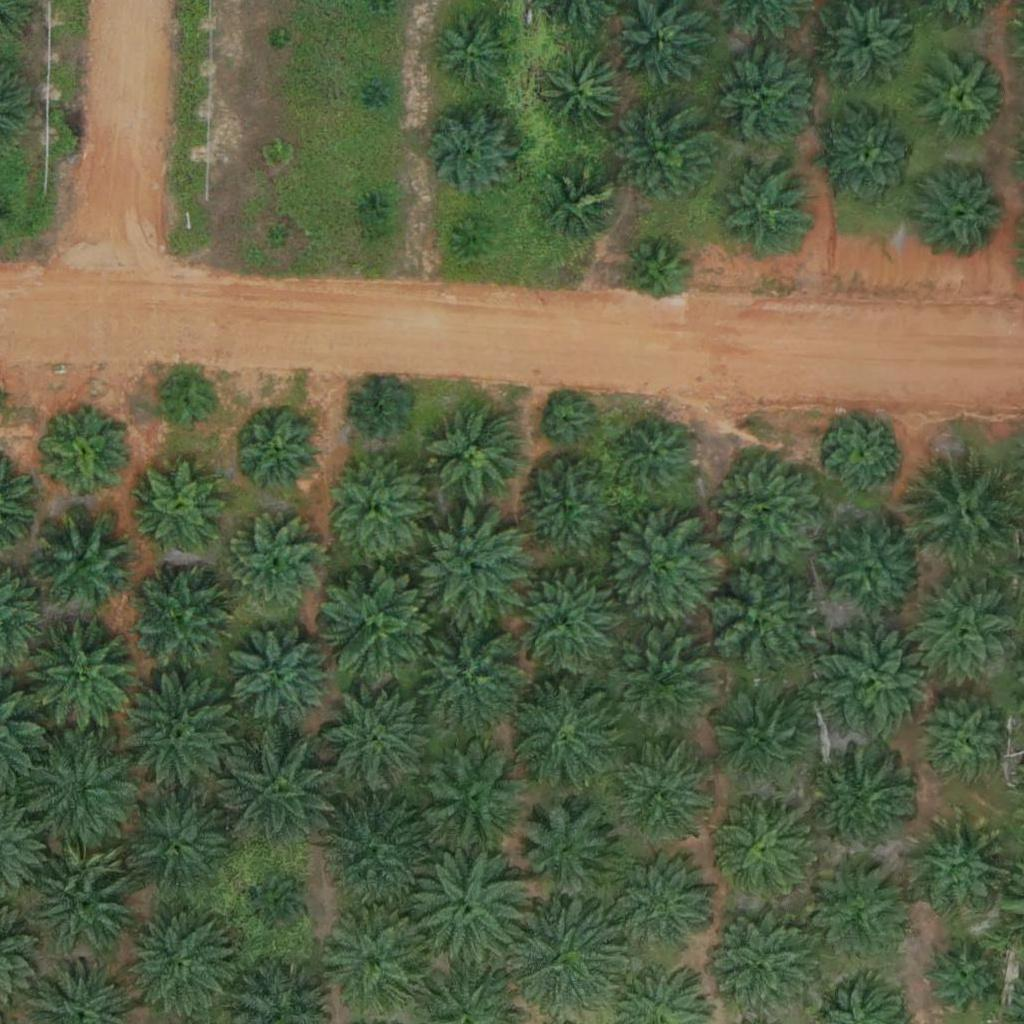Kelapa_Sawit: (16, 730, 141, 856), (112, 672, 237, 798), (217, 731, 342, 857), (318, 562, 443, 688), (314, 791, 439, 917), (401, 611, 526, 737), (411, 842, 536, 968), (506, 673, 631, 799), (706, 446, 831, 572), (694, 557, 819, 683), (814, 621, 939, 747), (502, 565, 627, 690), (26, 621, 139, 735), (126, 562, 239, 676), (118, 789, 231, 902), (123, 906, 236, 1019), (415, 511, 528, 624), (416, 743, 529, 856), (511, 799, 624, 912), (610, 853, 723, 966), (323, 906, 435, 1020), (415, 96, 527, 209), (25, 841, 137, 954), (226, 623, 338, 736), (317, 680, 429, 793), (604, 514, 716, 627), (605, 626, 717, 739), (616, 105, 716, 206), (710, 50, 810, 151), (715, 160, 815, 261), (222, 516, 322, 617), (326, 457, 426, 558), (426, 405, 526, 506), (515, 459, 615, 560), (714, 693, 814, 794), (715, 794, 815, 895), (822, 749, 922, 850), (810, 854, 910, 955), (913, 817, 1013, 918), (821, 109, 921, 209), (913, 160, 1013, 260), (34, 509, 134, 609), (820, 518, 920, 618), (433, 7, 521, 96), (818, 1, 906, 89), (539, 51, 627, 139), (137, 461, 225, 549), (236, 410, 324, 498), (617, 749, 705, 837), (619, 3, 706, 91), (921, 52, 1008, 140), (43, 415, 130, 503), (922, 700, 1009, 788), (827, 415, 902, 491), (546, 169, 621, 244), (618, 418, 693, 493), (924, 943, 999, 1018), (625, 242, 688, 305), (247, 877, 310, 940), (348, 380, 411, 443), (158, 373, 220, 436), (543, 397, 593, 447), (455, 218, 493, 256), (267, 29, 292, 54), (263, 141, 288, 166), (266, 225, 291, 250), (366, 83, 391, 108), (359, 193, 384, 218)
